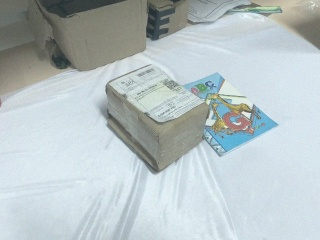book: (178, 70, 280, 158)
box: (105, 63, 207, 173), (27, 1, 147, 73), (146, 1, 189, 41)
